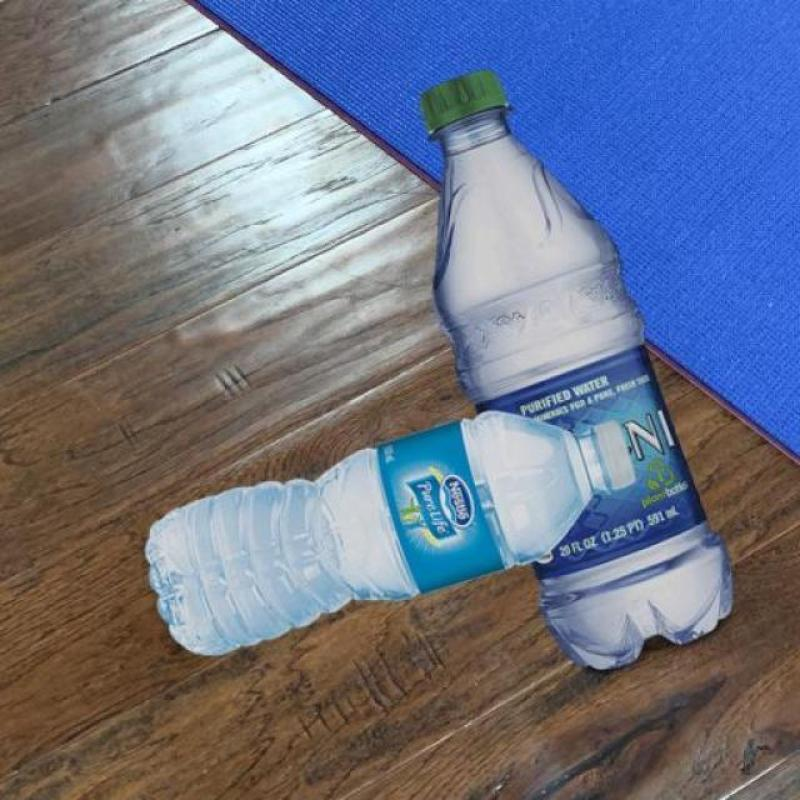botella: (423, 71, 734, 670), (144, 410, 635, 659)
